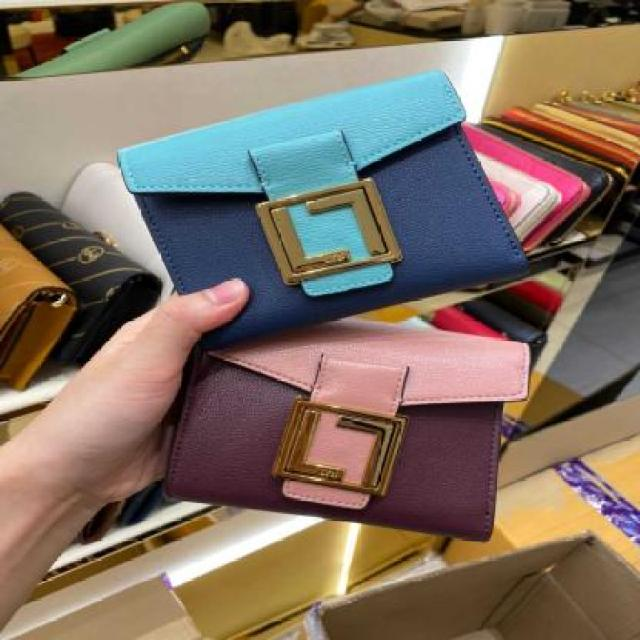Bag: (83, 61, 557, 362), (95, 254, 538, 555)
